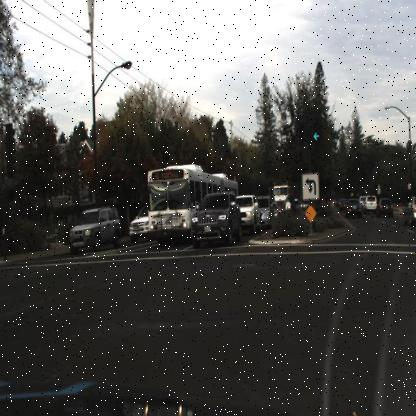car: (189, 188, 242, 250), (65, 203, 125, 254), (249, 194, 278, 234), (232, 193, 259, 235), (129, 205, 155, 240), (402, 201, 416, 226), (346, 199, 362, 217), (379, 200, 394, 217), (364, 195, 378, 210)
trafficLight-GreenLeft: (310, 109, 322, 146)
truck: (145, 161, 240, 246)
